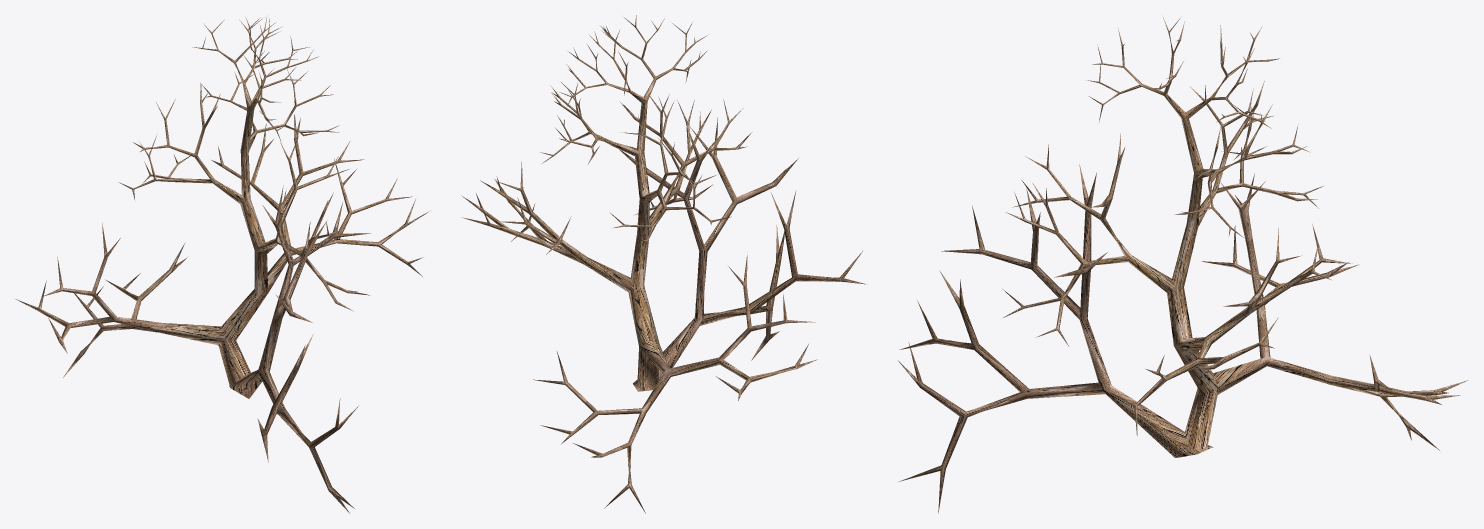
3 renders of one model, left to right at view 1: azimuth 30°, elevation 25°; view 2: azimuth 150°, elevation 25°; view 3: azimuth 270°, elevation 25°, orthographic. The views are drawn at different scales.
Visible parts, largest first — view 1: tree_018; view 2: tree_018; view 3: tree_018.
Part boxes in pixels (x1,y1,x2,y2): tree_018: [15, 17, 428, 513]; tree_018: [461, 15, 865, 513]; tree_018: [898, 16, 1468, 513].
Size of the model in its own units: 7.74 by 8.96 by 8.65.
1 material, 1 textured.
